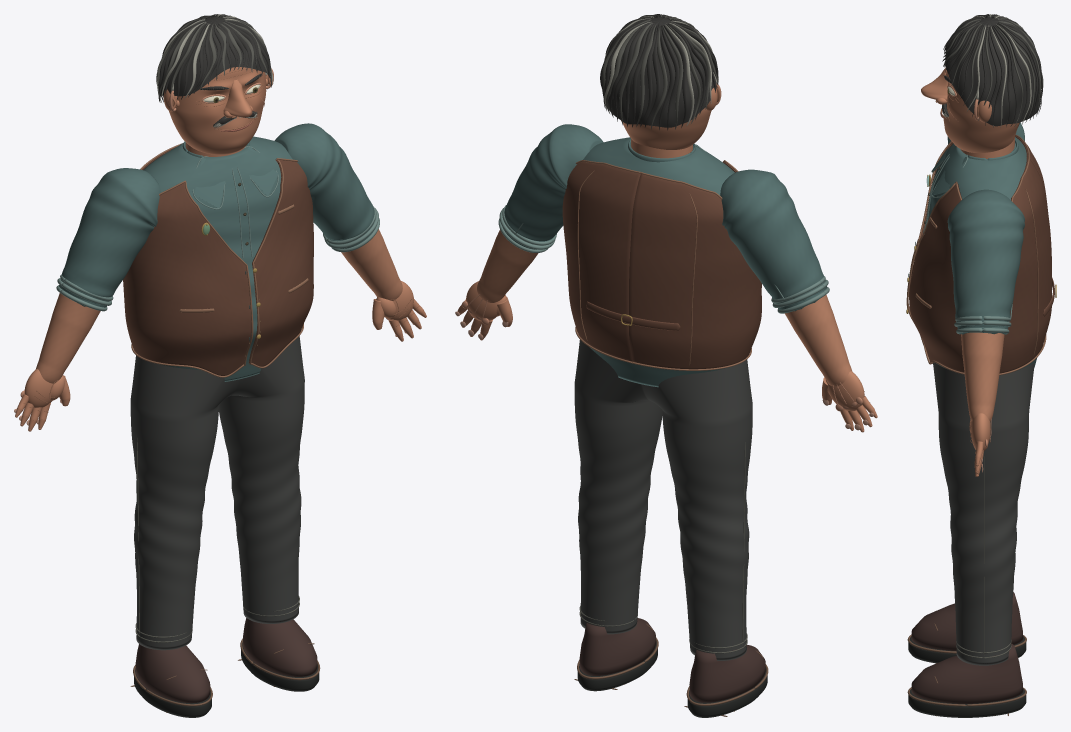
3 views of the same model, side by side, from view 1: azimuth 30°, elevation 25°; view 2: azimuth 150°, elevation 25°; view 3: azimuth 270°, elevation 25° (orthographic). The views are drawn at different scales.
Visible parts, largest first — view 1: 03 Trousers / Warm graphite twill trousers, 04 Waistcoat / Chestnut waistcoat leather, 01 Shirt / Faded petrol woven cotton, 14 Shoes / Burnished oxblood work shoes, 02 Head / Warm ochre skin / weathered, 06 Arms / Warm ochre skin / weathered, 12 Hair / Charcoal hair, 01 Shirt / Raised cotton seams, 14 Shoes / Dark rubber soles, 04 Waistcoat / Worn leather edging, 12 Hair / Warm graphite hair strands, 07 Left Hand / Warm ochre skin / weathered (+4 smaller); view 2: 03 Trousers / Warm graphite twill trousers, 04 Waistcoat / Chestnut waistcoat leather, 01 Shirt / Faded petrol woven cotton, 12 Hair / Charcoal hair, 14 Shoes / Burnished oxblood work shoes, 06 Arms / Warm ochre skin / weathered, 12 Hair / Warm graphite hair strands, 02 Head / Warm ochre skin / weathered, 14 Shoes / Dark rubber soles, 01 Shirt / Raised cotton seams, 07 Left Hand / Warm ochre skin / weathered, 04 Waistcoat / Worn leather edging (+3 smaller); view 3: 03 Trousers / Warm graphite twill trousers, 04 Waistcoat / Chestnut waistcoat leather, 01 Shirt / Faded petrol woven cotton, 12 Hair / Charcoal hair, 14 Shoes / Burnished oxblood work shoes, 02 Head / Warm ochre skin / weathered, 06 Arms / Warm ochre skin / weathered, 14 Shoes / Dark rubber soles, 12 Hair / Warm graphite hair strands, 04 Waistcoat / Worn leather edging, 01 Shirt / Raised cotton seams, 07 Right Hand / Warm ochre skin / weathered (+4 smaller).
Part boxes in pixels (left/top/right/bottom): 03 Trousers / Warm graphite twill trousers: left=130, top=336, right=304, bottom=650; 04 Waistcoat / Chestnut waistcoat leather: left=123, top=148, right=313, bottom=375; 01 Shirt / Faded petrol woven cotton: left=59, top=123, right=375, bottom=381; 14 Shoes / Burnished oxblood work shoes: left=135, top=618, right=317, bottom=703; 02 Head / Warm ochre skin / weathered: left=163, top=67, right=270, bottom=156; 06 Arms / Warm ochre skin / weathered: left=36, top=229, right=402, bottom=383; 12 Hair / Charcoal hair: left=156, top=14, right=271, bottom=102; 01 Shirt / Raised cotton seams: left=56, top=146, right=379, bottom=311; 14 Shoes / Dark rubber soles: left=134, top=642, right=319, bottom=717; 04 Waistcoat / Worn leather edging: left=131, top=143, right=308, bottom=377; 12 Hair / Warm graphite hair strands: left=157, top=14, right=272, bottom=102; 07 Left Hand / Warm ochre skin / weathered: left=15, top=368, right=70, bottom=431; 03 Trousers / Warm graphite twill trousers: left=574, top=340, right=752, bottom=660; 04 Waistcoat / Chestnut waistcoat leather: left=562, top=161, right=761, bottom=369; 01 Shirt / Faded petrol woven cotton: left=502, top=124, right=826, bottom=387; 12 Hair / Charcoal hair: left=600, top=14, right=718, bottom=130; 14 Shoes / Burnished oxblood work shoes: left=579, top=618, right=765, bottom=702; 06 Arms / Warm ochre skin / weathered: left=477, top=229, right=852, bottom=386; 12 Hair / Warm graphite hair strands: left=602, top=14, right=718, bottom=129; 02 Head / Warm ochre skin / weathered: left=621, top=88, right=717, bottom=158; 14 Shoes / Dark rubber soles: left=577, top=641, right=767, bottom=717; 01 Shirt / Raised cotton seams: left=498, top=144, right=829, bottom=313; 07 Left Hand / Warm ochre skin / weathered: left=822, top=371, right=877, bottom=432; 04 Waistcoat / Worn leather edging: left=575, top=160, right=751, bottom=370; 03 Trousers / Warm graphite twill trousers: left=933, top=362, right=1034, bottom=665; 04 Waistcoat / Chestnut waistcoat leather: left=909, top=136, right=1054, bottom=373; 01 Shirt / Faded petrol woven cotton: left=928, top=122, right=1036, bottom=370; 12 Hair / Charcoal hair: left=942, top=14, right=1042, bottom=127; 14 Shoes / Burnished oxblood work shoes: left=911, top=592, right=1023, bottom=703; 02 Head / Warm ochre skin / weathered: left=943, top=71, right=1019, bottom=158; 06 Arms / Warm ochre skin / weathered: left=961, top=332, right=1004, bottom=421; 14 Shoes / Dark rubber soles: left=908, top=636, right=1026, bottom=717; 12 Hair / Warm graphite hair strands: left=943, top=14, right=1043, bottom=126; 04 Waistcoat / Worn leather edging: left=906, top=135, right=1046, bottom=375; 01 Shirt / Raised cotton seams: left=923, top=154, right=1012, bottom=334; 07 Right Hand / Warm ochre skin / weathered: left=969, top=413, right=990, bottom=476.
Size of the model in its own units: 1.16 by 1.77 by 0.3648.
